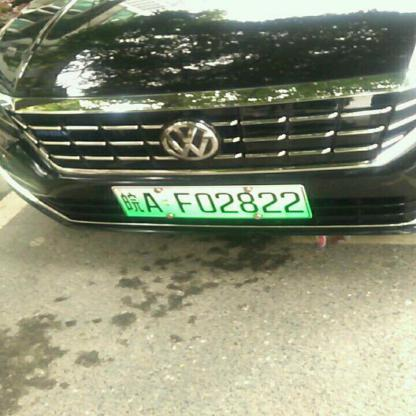lp: (113, 185, 309, 217)
